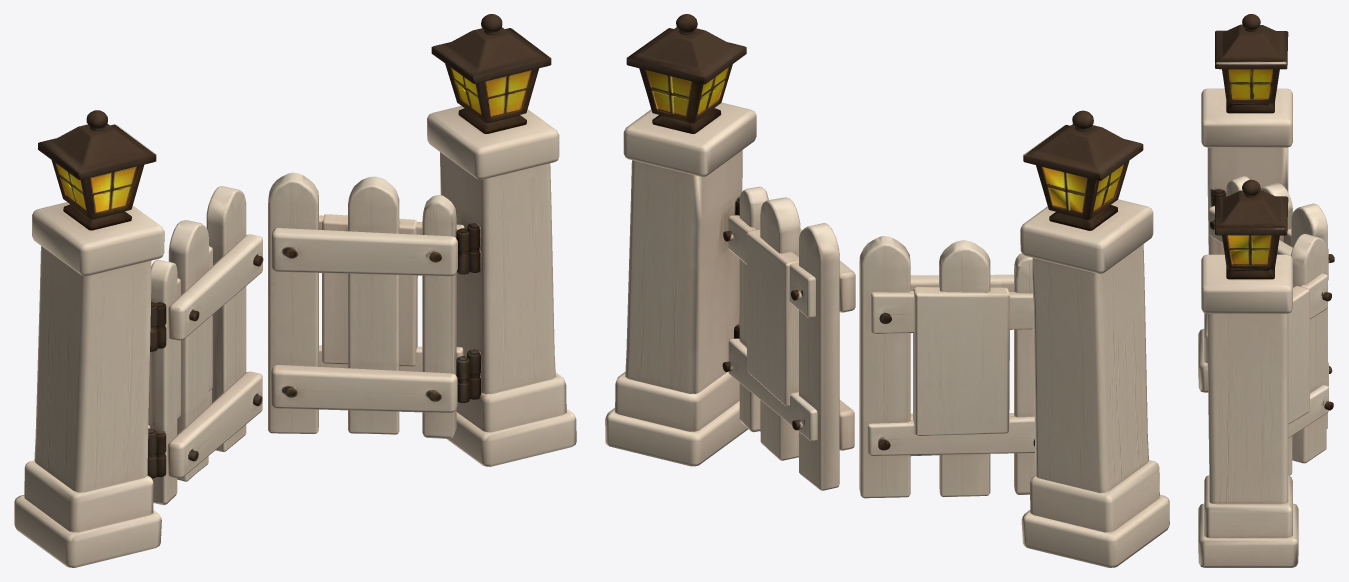
3 views of the same model, side by side, from view 1: azimuth 30°, elevation 25°; view 2: azimuth 150°, elevation 25°; view 3: azimuth 270°, elevation 25° (orthographic). The views are drawn at different scales.
Parts seen in each view (by area): view 1: garden-gate; view 2: garden-gate; view 3: garden-gate.
Part boxes in pixels (left/top/right/bottom): garden-gate: left=14, top=14, right=576, bottom=567; garden-gate: left=605, top=14, right=1169, bottom=567; garden-gate: left=1198, top=14, right=1334, bottom=567.
Size of the model in its own units: 1.5 by 1.19 by 0.4038.
1 material, 1 textured.
